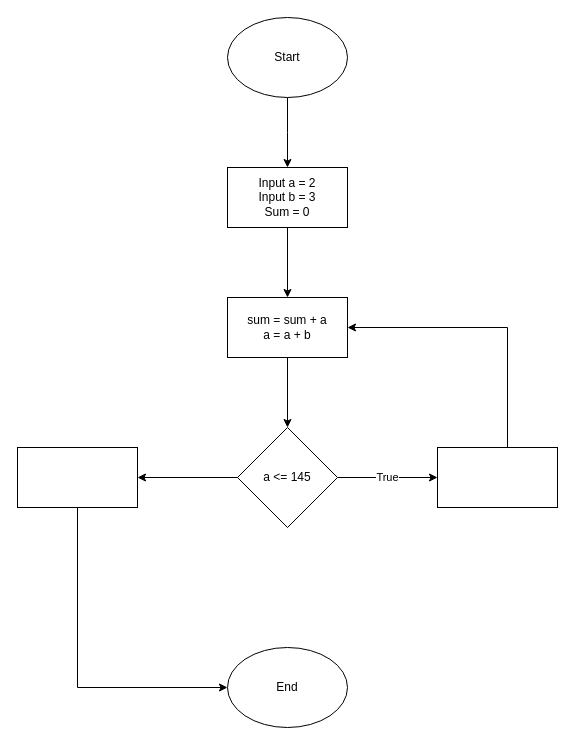
This 575x745 diagram has some shape labels left out. The centre of each missing label's shape, as x and y in pixels:
"b = b + 2" goes at (497,477).
"Print sum" goes at (77,477).
